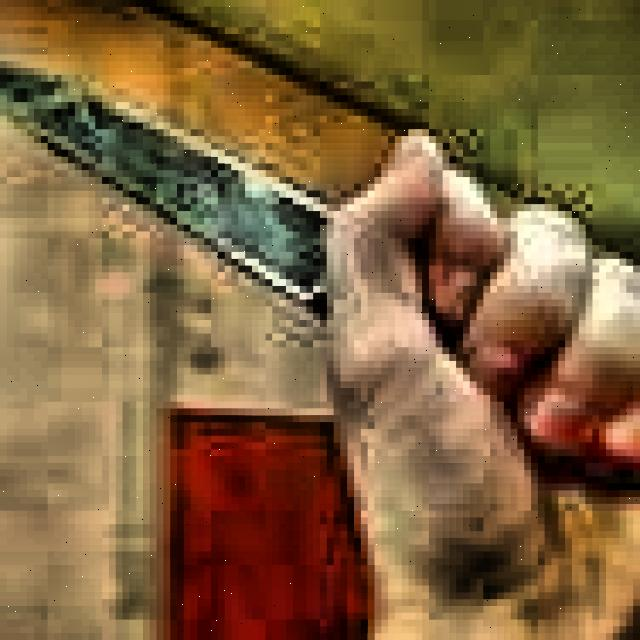knife: (0, 61, 640, 490)
